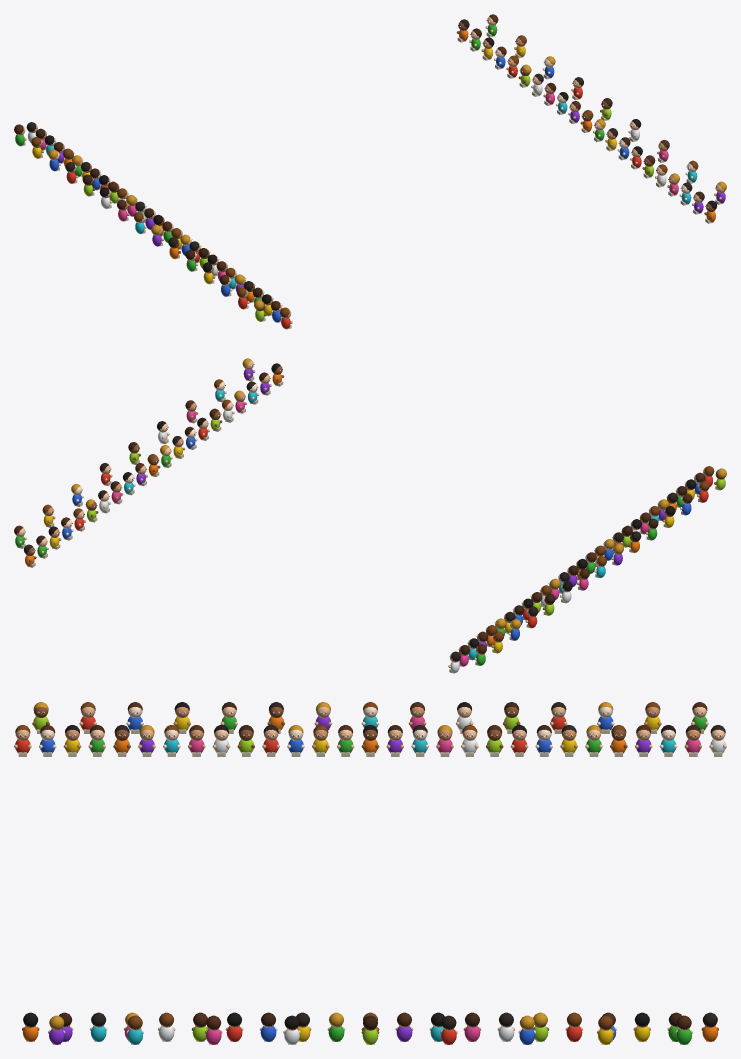
The model's file is mii_crowd.glb.
The picture shows the model from 3 angles, top to bottom: view 1: azimuth 30°, elevation 25°; view 2: azimuth 150°, elevation 25°; view 3: azimuth 270°, elevation 25°; orthographic projection. The views are drawn at different scales.
Bounding box in the file's own units: 28.93 × 1.64 × 27.28.
